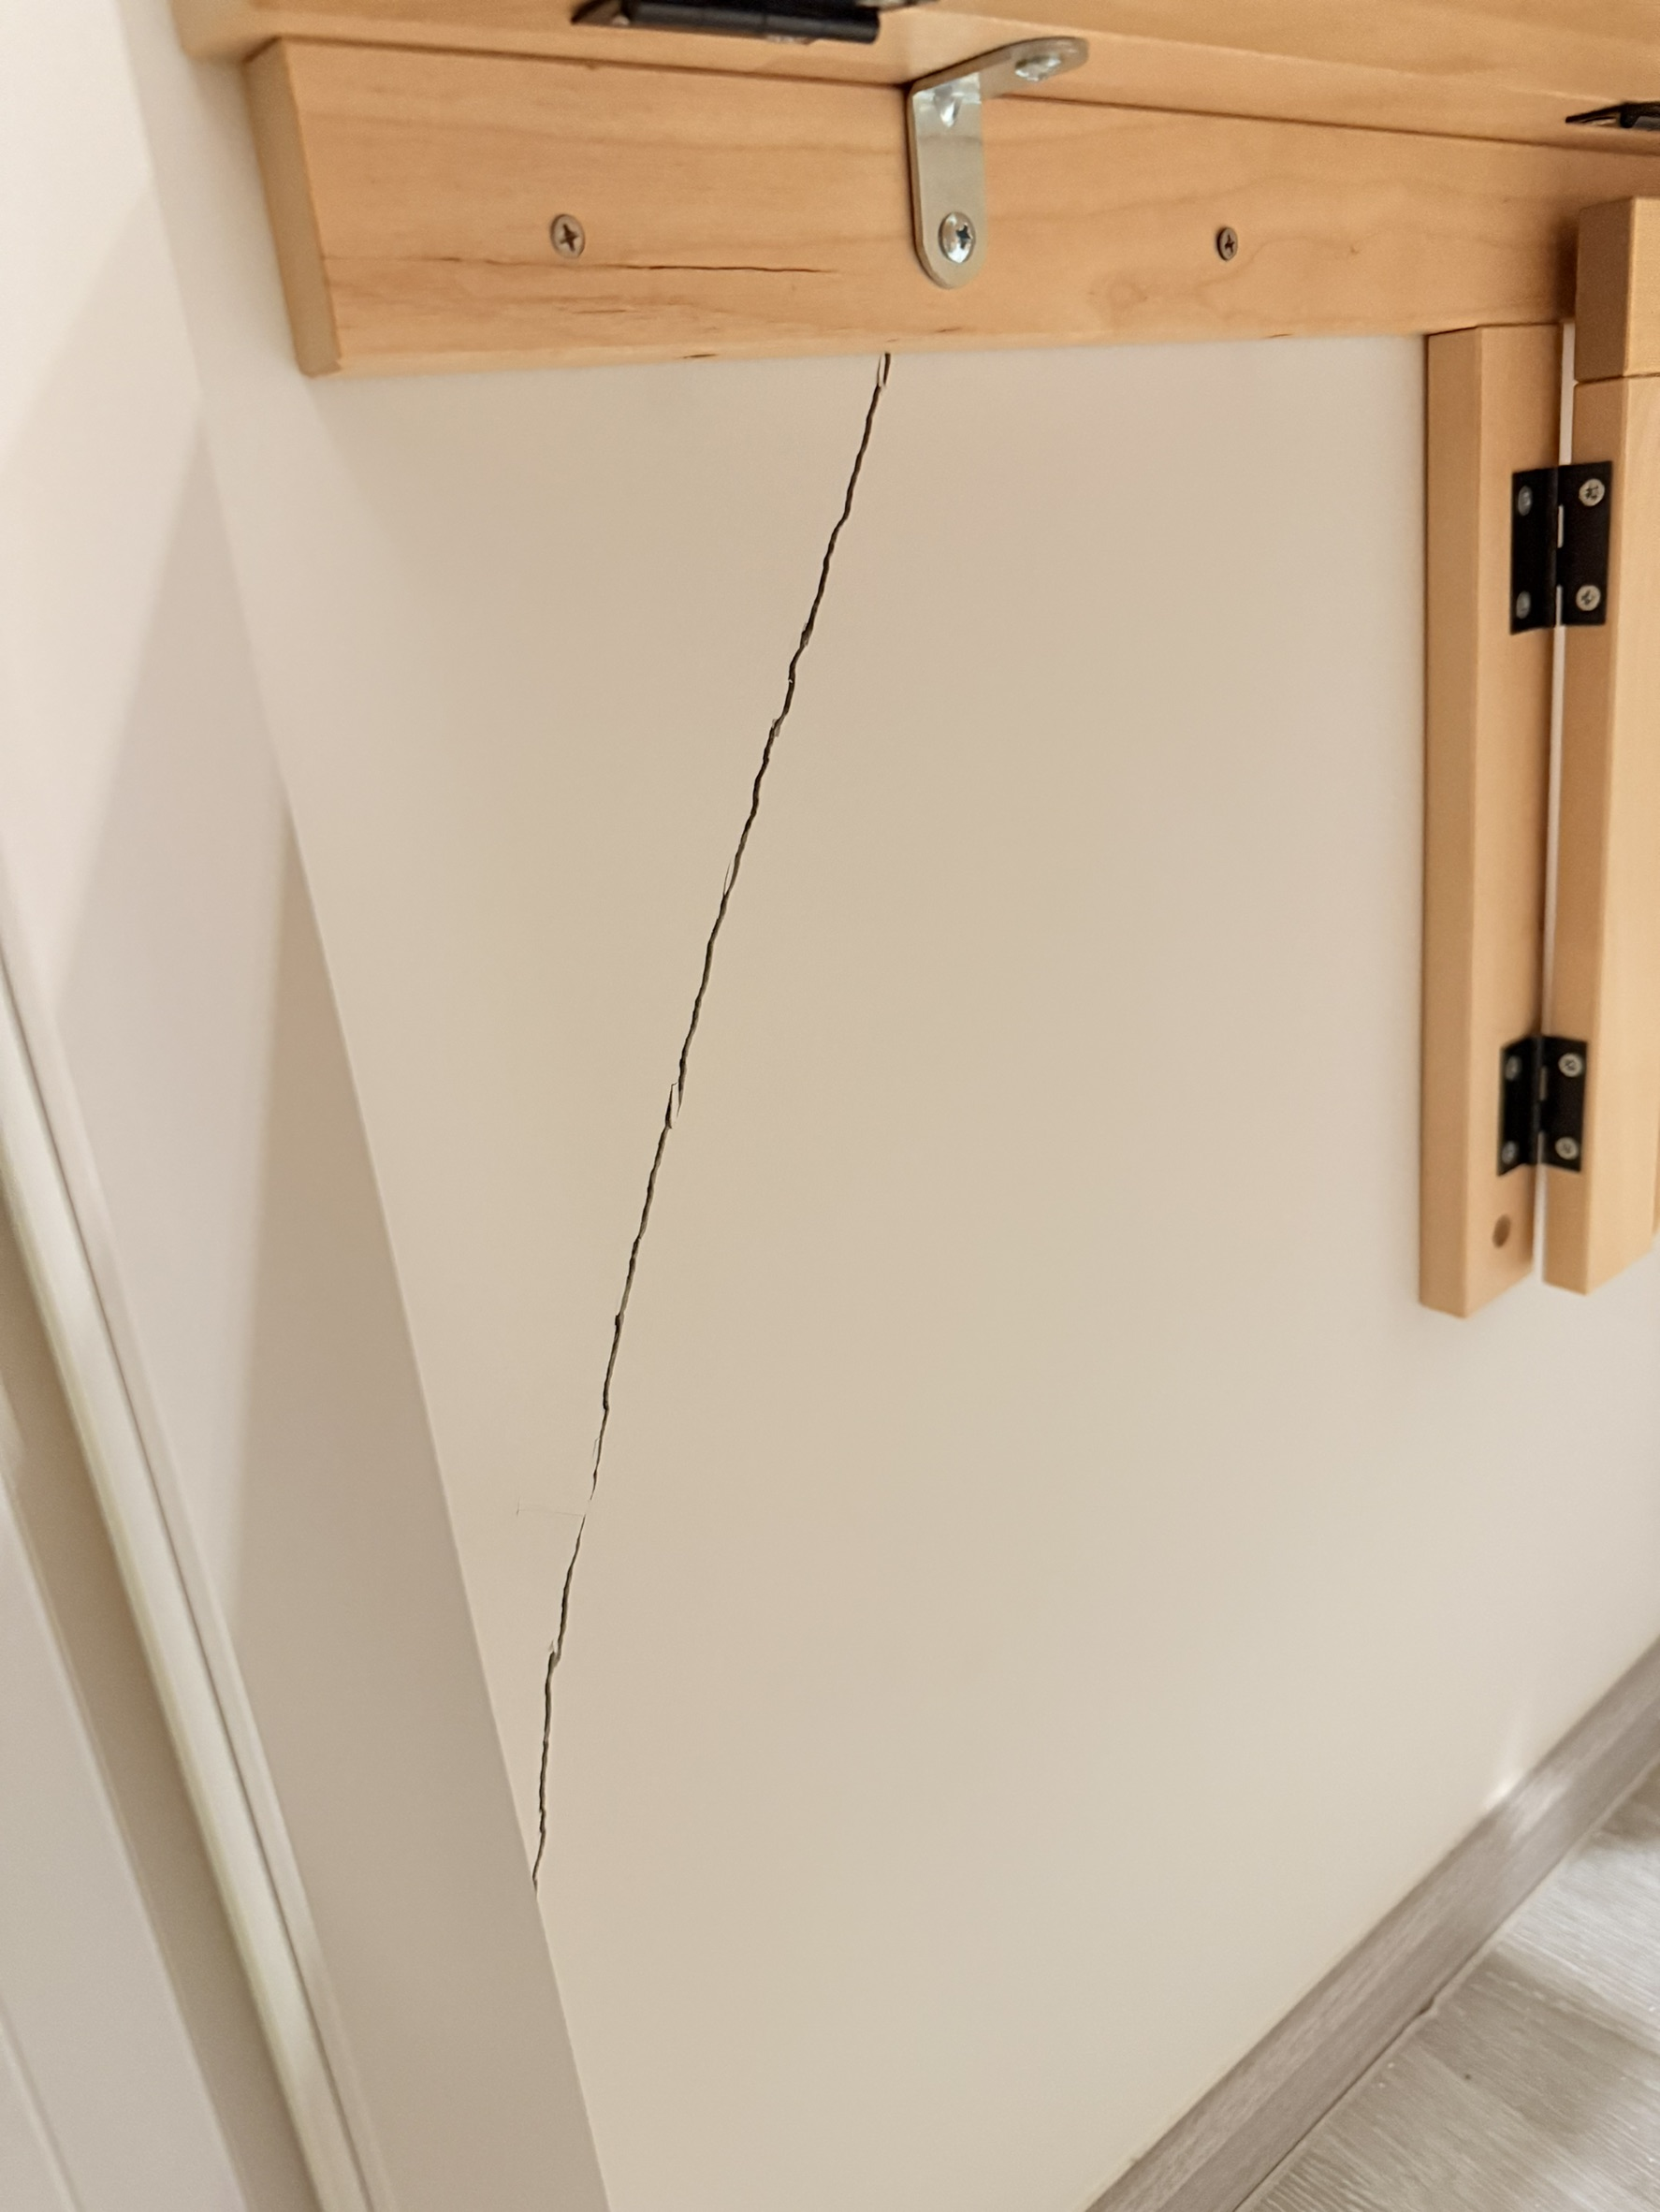Low: (476, 342, 1055, 1886)
